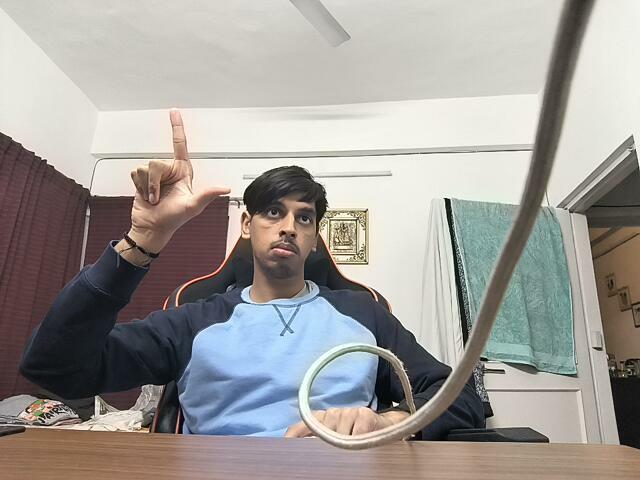UP: (108, 102, 237, 247)
